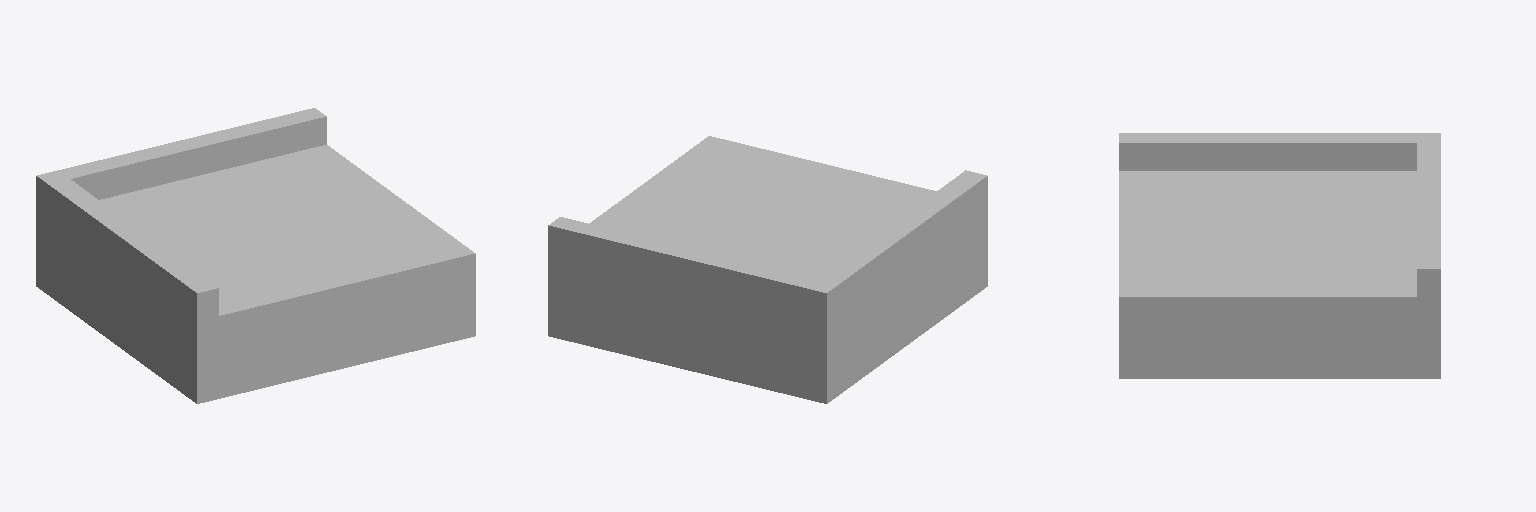
The model's file is rooftop.1.obj.
The picture shows the model from 3 angles: view 1: azimuth 30°, elevation 25°; view 2: azimuth 150°, elevation 25°; view 3: azimuth 270°, elevation 25°; orthographic projection.
Parts seen in each view (by area): view 1: Cube.029_Cube.023; view 2: Cube.029_Cube.023; view 3: Cube.029_Cube.023.
Part boxes in pixels (x1,y1,x2,y2): Cube.029_Cube.023: (36, 108, 475, 403); Cube.029_Cube.023: (548, 136, 987, 403); Cube.029_Cube.023: (1119, 133, 1440, 378).
Bounding box in the file's own units: 3.66 × 1.39 × 3.66.